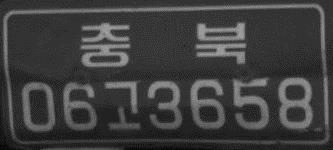0: (20, 78, 56, 133)
3: (146, 78, 183, 132)
5: (228, 71, 272, 132)
6: (187, 77, 227, 131), (60, 81, 98, 132)
8: (277, 75, 315, 131)
고: (100, 77, 143, 133)
충북_D: (78, 18, 248, 71)
